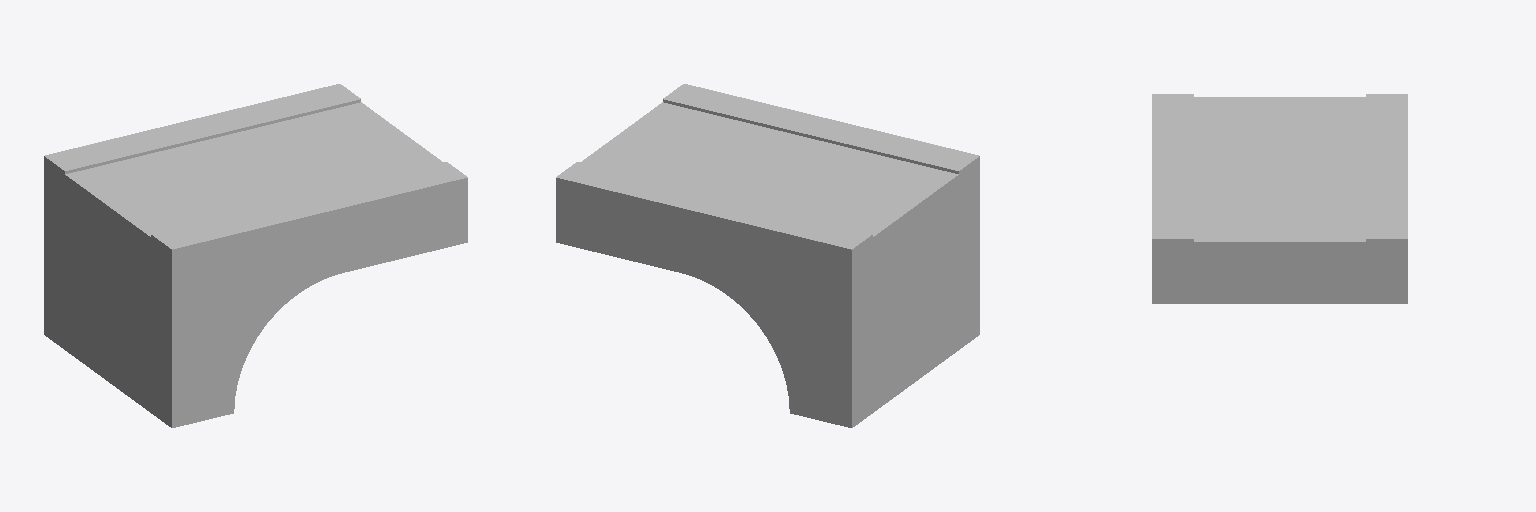
File: tile290.obj
3 views of the same model, side by side, from view 1: azimuth 30°, elevation 25°; view 2: azimuth 150°, elevation 25°; view 3: azimuth 270°, elevation 25° (orthographic).
Visible parts, largest first — view 1: tile290; view 2: tile290; view 3: tile290.
Boxes of the visible parts, box(x1,y1,x2,y2) form: tile290: box(44, 84, 467, 427); tile290: box(556, 84, 979, 427); tile290: box(1152, 94, 1407, 303).
Size of the model in its own units: 1 by 0.5767 by 0.75.